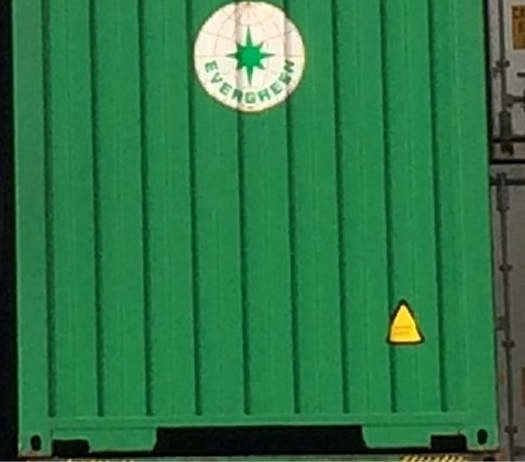container_no_door: (22, 3, 487, 455)
